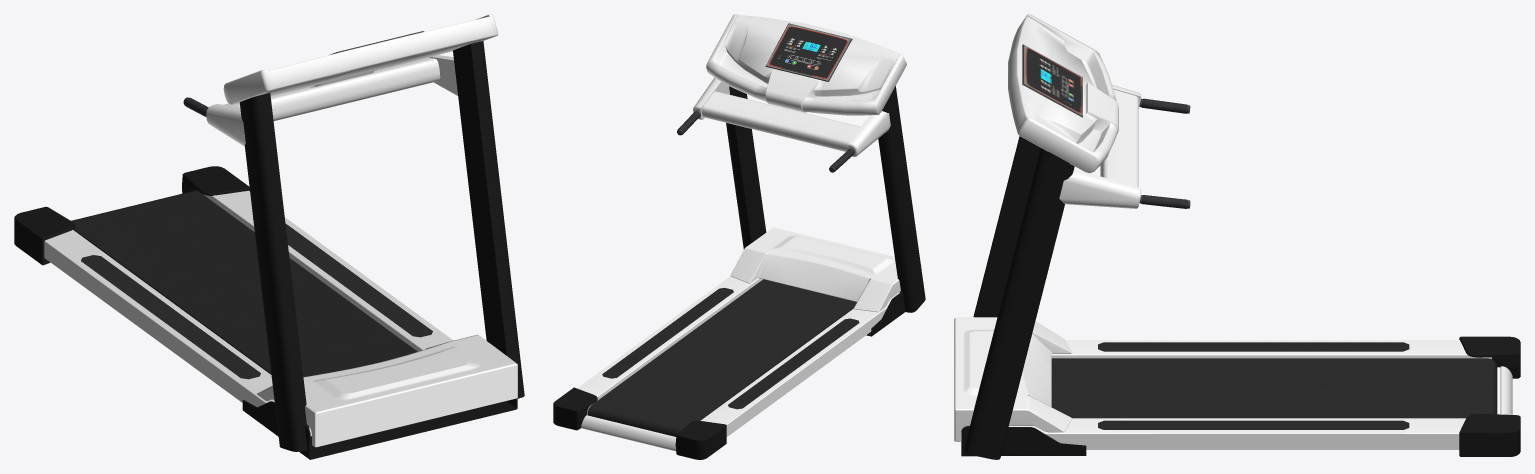
Rendered from Treadmill.FBX.
3 renders of one model, left to right at view 1: azimuth 30°, elevation 25°; view 2: azimuth 150°, elevation 25°; view 3: azimuth 270°, elevation 25°, orthographic. The views are drawn at different scales.
Parts seen in each view (by area): view 1: Treadmill; view 2: Treadmill; view 3: Treadmill.
Part boxes in pixels (x1,y1,x2,y2): Treadmill: (14, 14, 524, 459); Treadmill: (553, 14, 925, 459); Treadmill: (954, 14, 1520, 459).
Bounding box in the file's own units: 0.8784 × 1.98 × 1.34.
